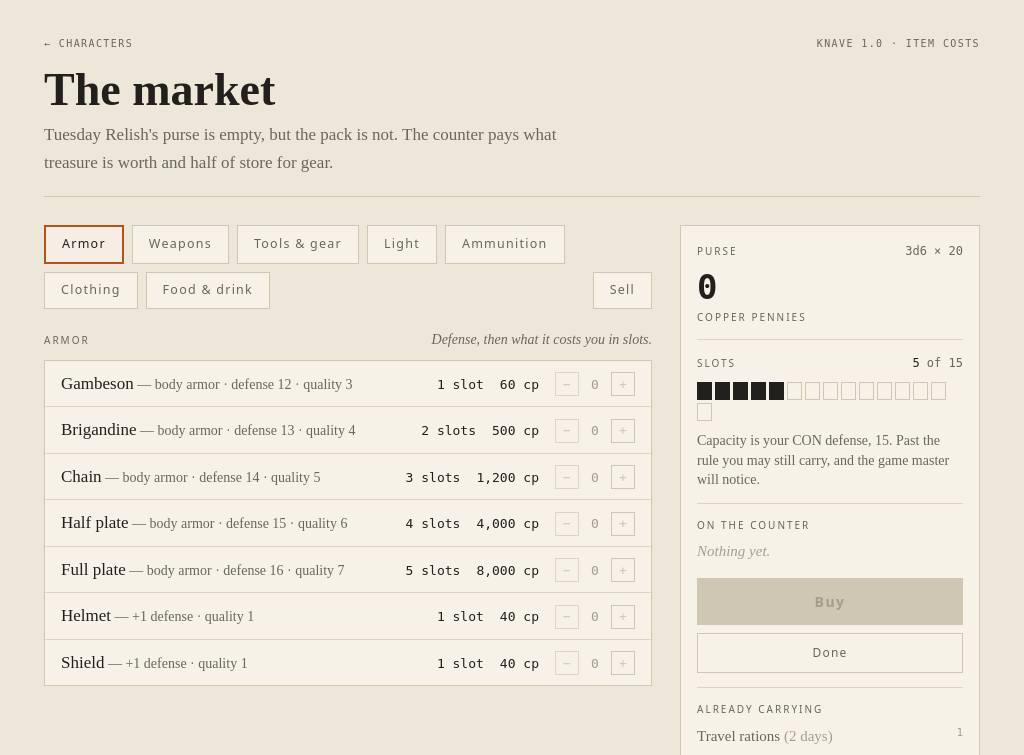
the counter, selling › counts the button down as treasure goes on the block one piece at a time
Click the button "Sell" at (622, 290), box [593,272,652,309]
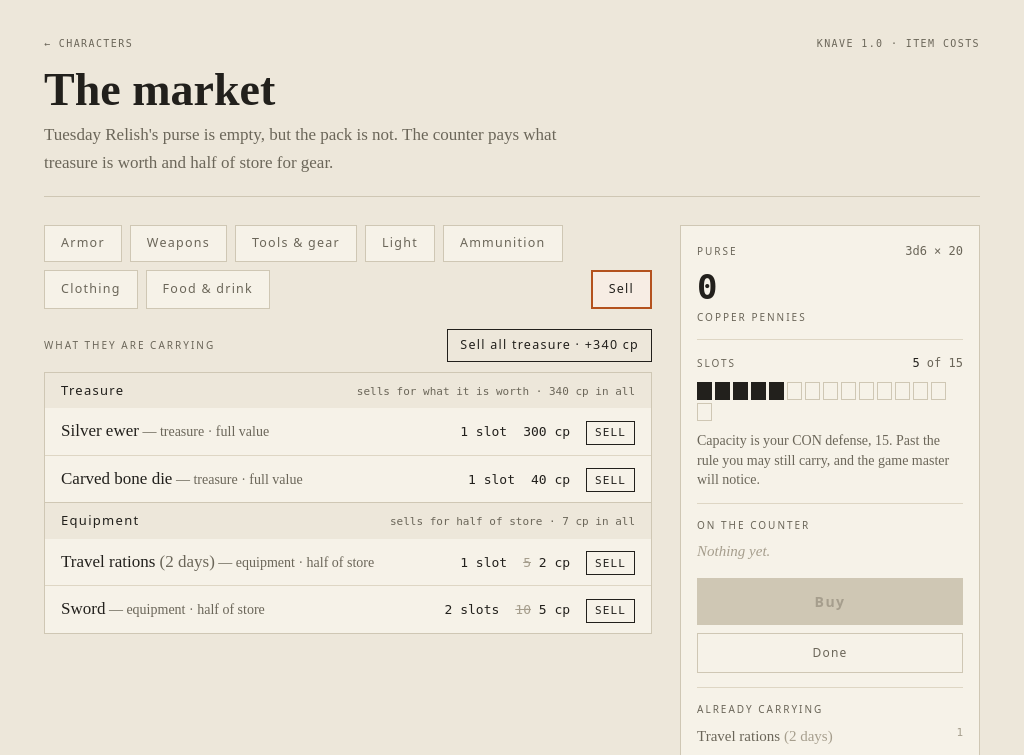
Click the button "Sell" next to "300 cp" at (611, 432), box [586,420,635,444]
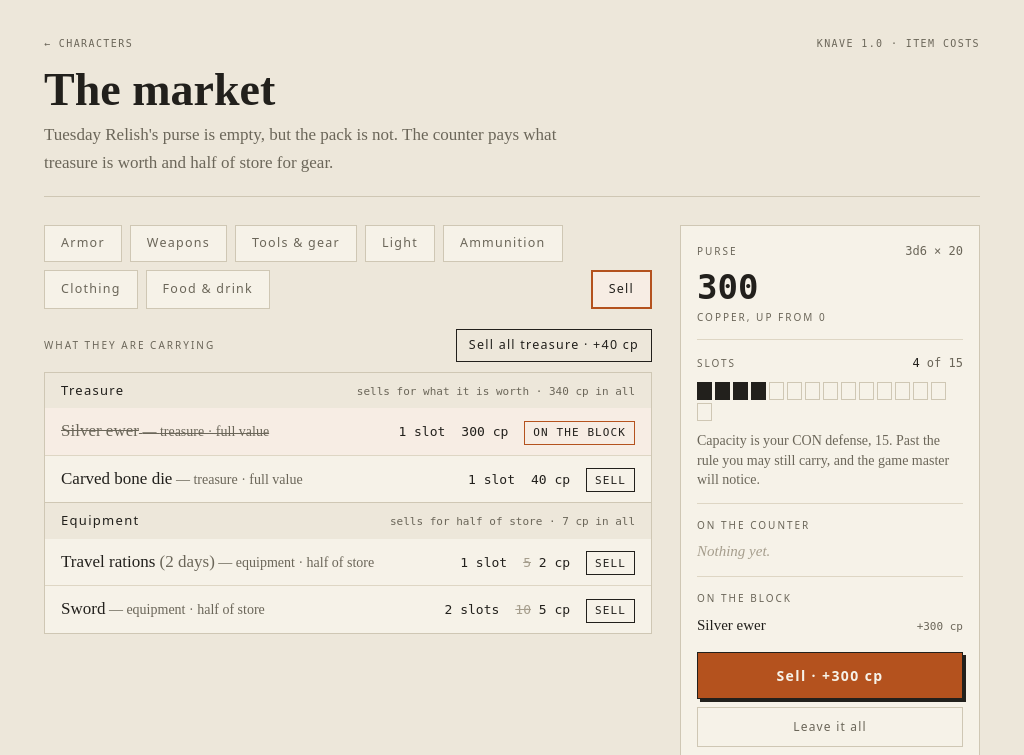
Result: the button "Sell all treasure · +40 cp" is shown at [456,329,652,362]
